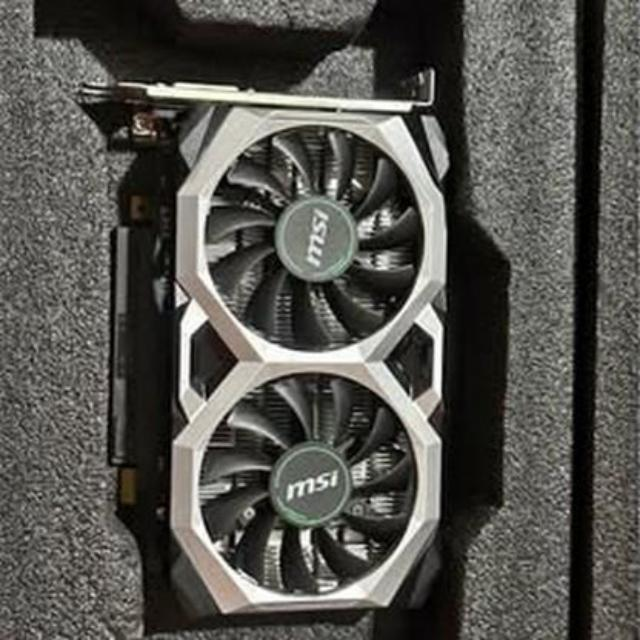GPU: (113, 83, 442, 631)
